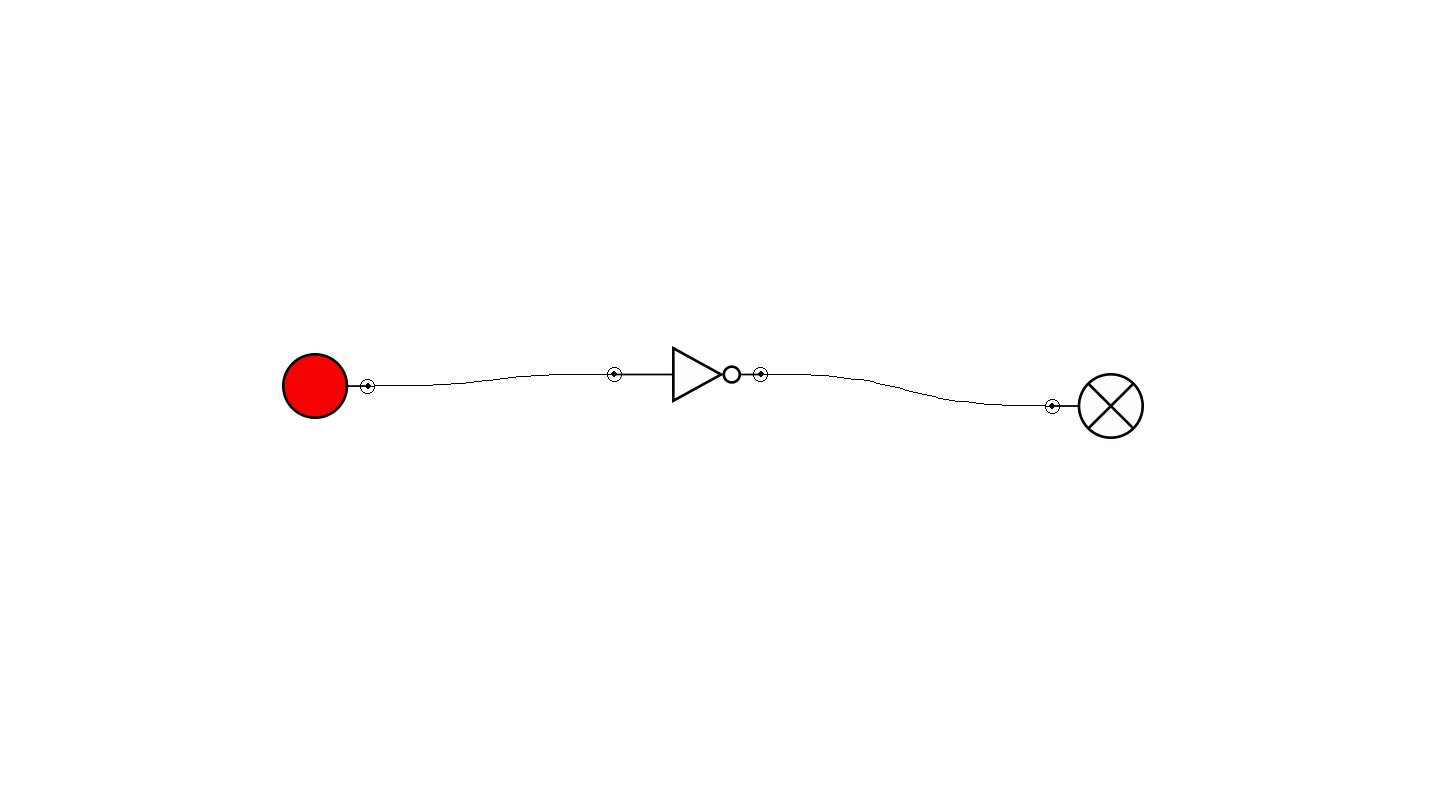bulb: (1045, 373, 1144, 439)
not: (607, 346, 768, 403)
switch_False: (282, 353, 375, 419)
